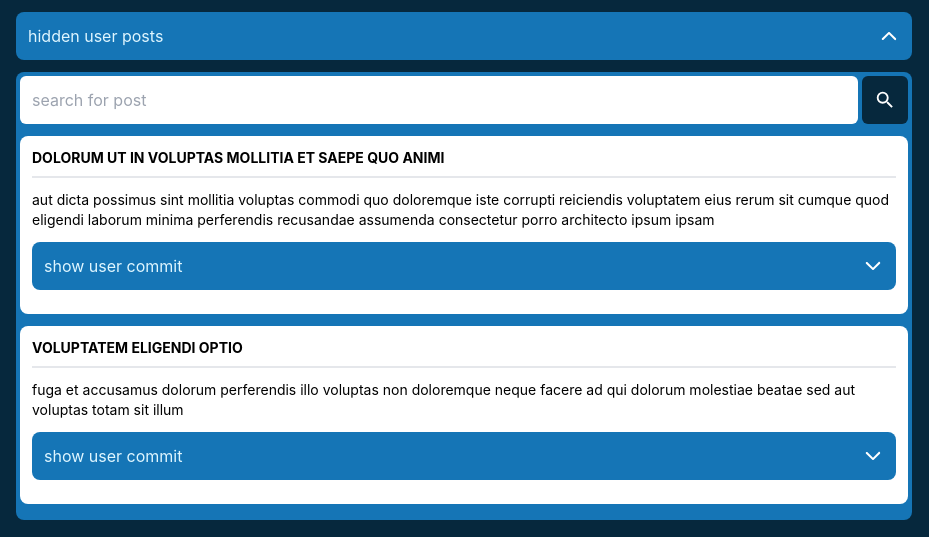
Test case: testing posts list page all cases › testing the post list changes when search input change
Clear the field with placeholder "search for post" at (439, 100), box x1=20 y1=76 x2=858 y2=124
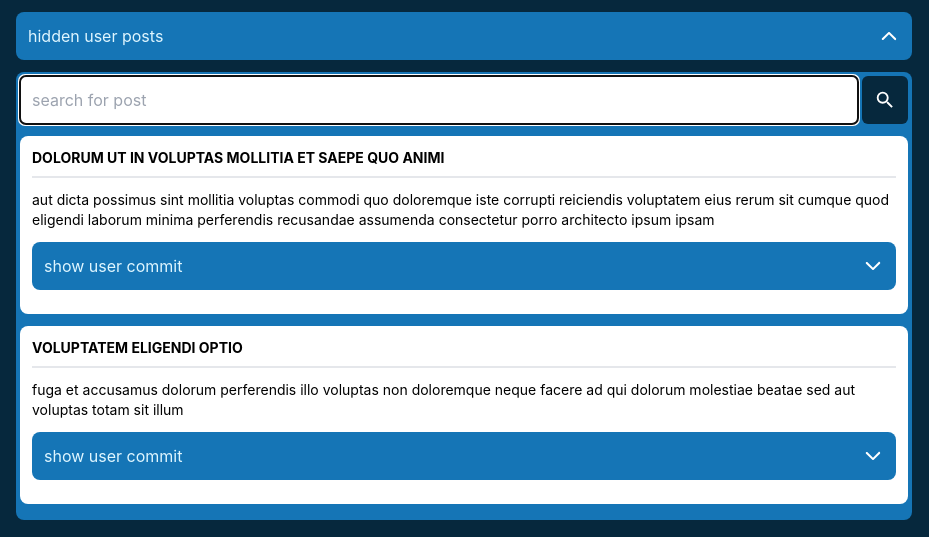
Expected: the headings read "dolorum ut in voluptas mollitia et saepe quo animi", "aut dicta possimus sint mollitia voluptas commodi quo doloremque iste corrupti reiciendis voluptatem eius rerum sit cumque quod eligendi laborum minima perferen", "voluptatem eligendi optio", "fuga et accusamus dolorum perferendis illo voluptas non doloremque neque facere ad qui dolorum molestiae beatae sed aut voluptas totam sit illum", in this order, x1=32 y1=148 x2=896 y2=178; x1=32 y1=190 x2=896 y2=230; x1=32 y1=338 x2=896 y2=368; x1=32 y1=380 x2=896 y2=420
// when starts search
Type "aut dicta" into the field with placeholder "search for post" at (439, 100), box x1=20 y1=76 x2=858 y2=124
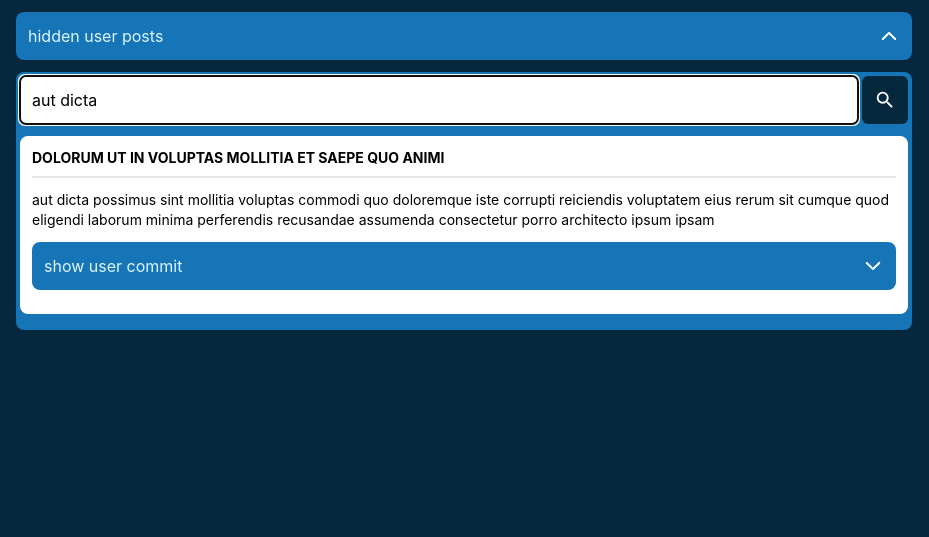
Expected: the headings read "dolorum ut in voluptas mollitia et saepe quo animi", "aut dicta possimus sint mollitia voluptas commodi quo doloremque iste corrupti reiciendis voluptatem eius rerum sit cumque quod eligendi laborum minima perferen", in this order, x1=32 y1=148 x2=896 y2=178; x1=32 y1=190 x2=896 y2=230
// when don't found anything
Replace the text in the field with placeholder "search for post" with "mmmmmm" at (439, 100), box x1=20 y1=76 x2=858 y2=124
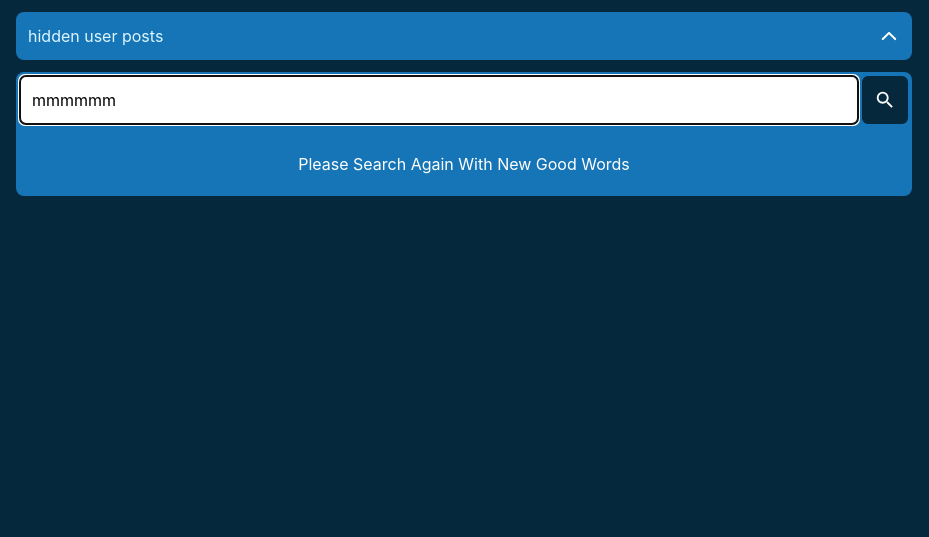
Result: the text "please search again with new good words" is shown at x1=298 y1=154 x2=630 y2=174
